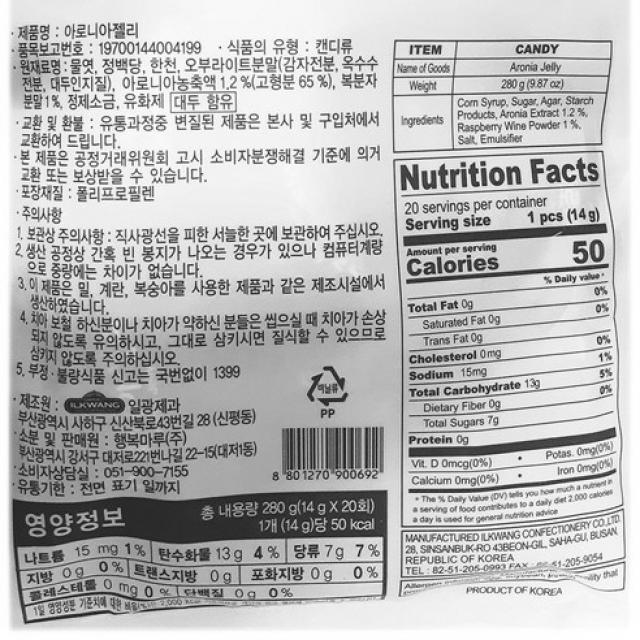Nutrition Label: (6, 494, 396, 635)
